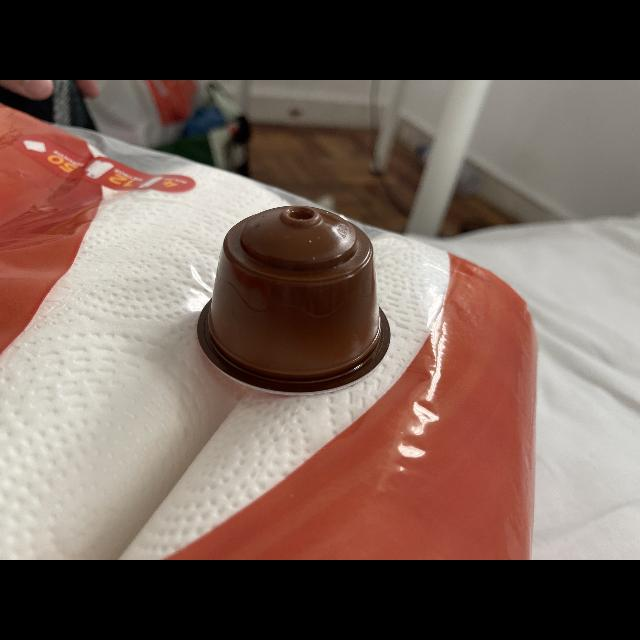intact_capsule: (188, 194, 402, 406)
